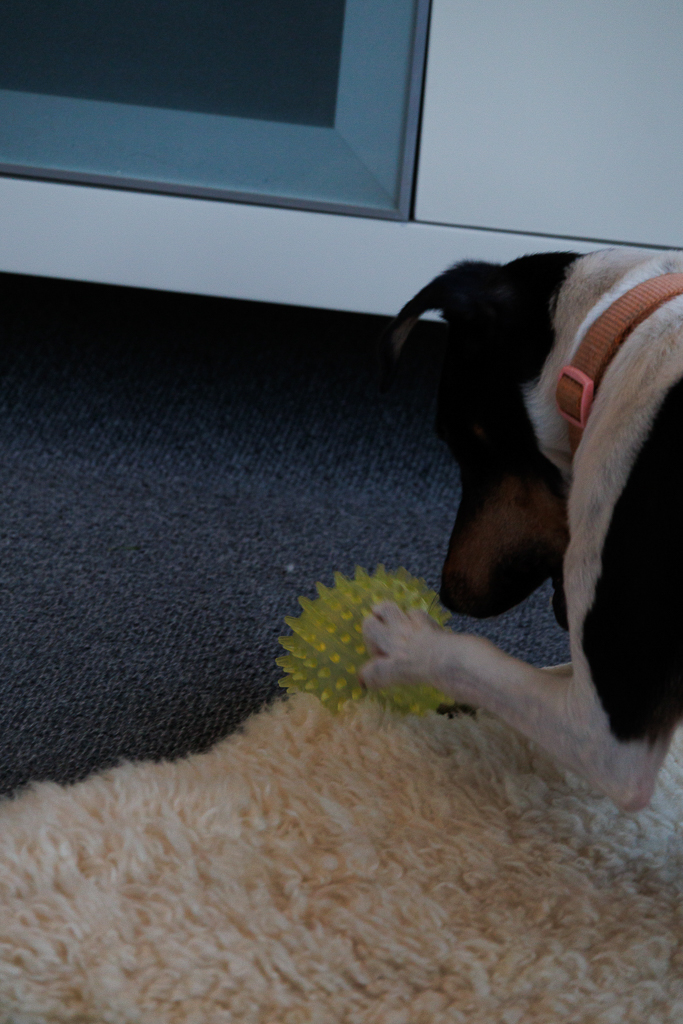Dog: (334, 229, 683, 823)
